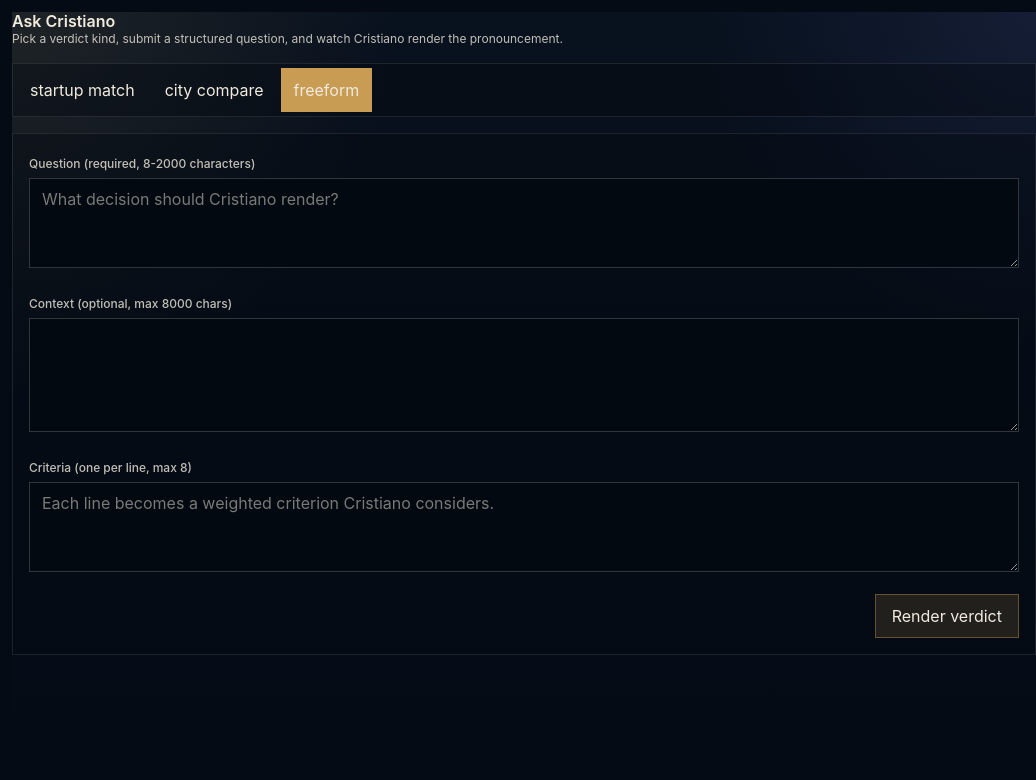
Test: AskCristiano — submit + render flow › surfaces a validation error when freeform question is too short
Type "Hi?" into the text box with test id "ask-cristiano-question" at (524, 223), box [29,178,1019,268]
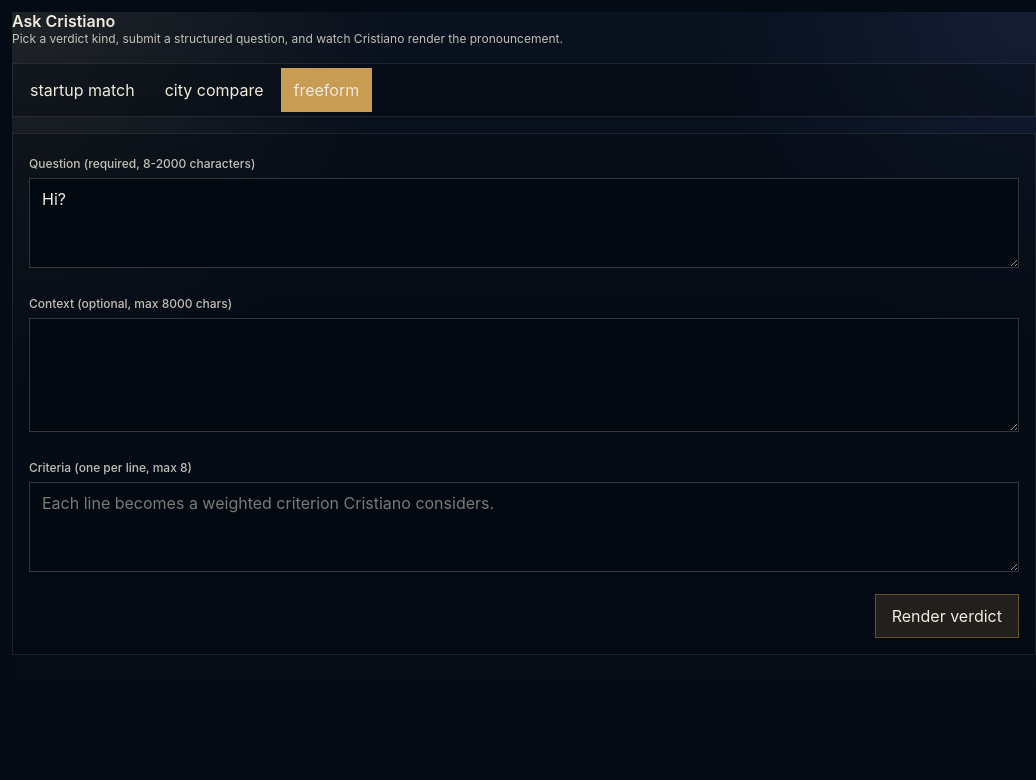
Click the button with test id "ask-cristiano-submit" at (947, 616), box [875,594,1019,638]
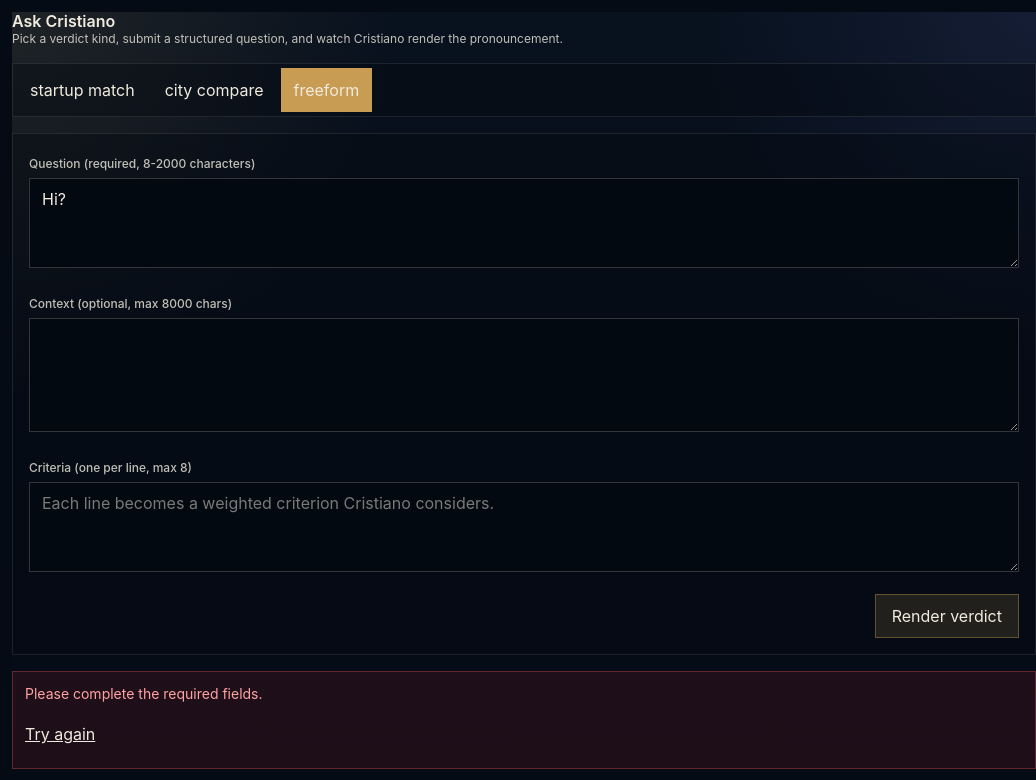
Result: the message "Please complete the required fields. Try again" is shown at [12,671,1035,769]
